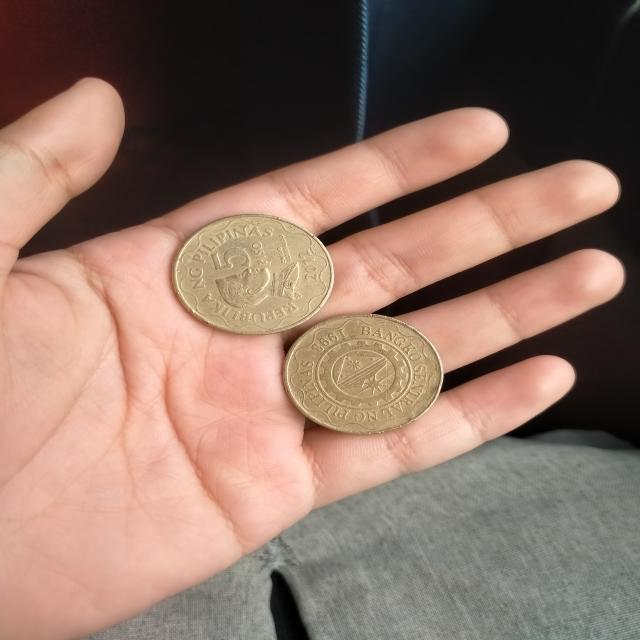5_Old_Back: (283, 308, 443, 433)
5_Old_Front: (206, 234, 277, 282)
